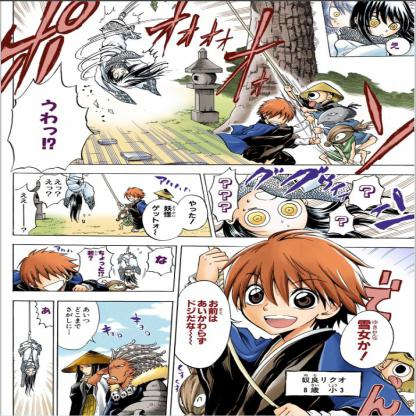sub: (35, 93, 62, 154), (195, 299, 208, 347), (356, 318, 372, 350), (185, 298, 196, 330), (187, 198, 199, 226), (206, 299, 219, 324), (151, 204, 161, 229), (65, 305, 73, 336), (80, 306, 92, 325), (53, 177, 63, 198), (44, 177, 54, 198), (153, 253, 169, 266), (73, 305, 81, 330), (39, 302, 52, 317), (96, 249, 104, 272), (388, 40, 403, 52), (161, 204, 172, 219), (18, 190, 28, 204), (318, 376, 328, 384), (337, 376, 347, 384), (328, 376, 337, 384), (88, 250, 94, 260)
